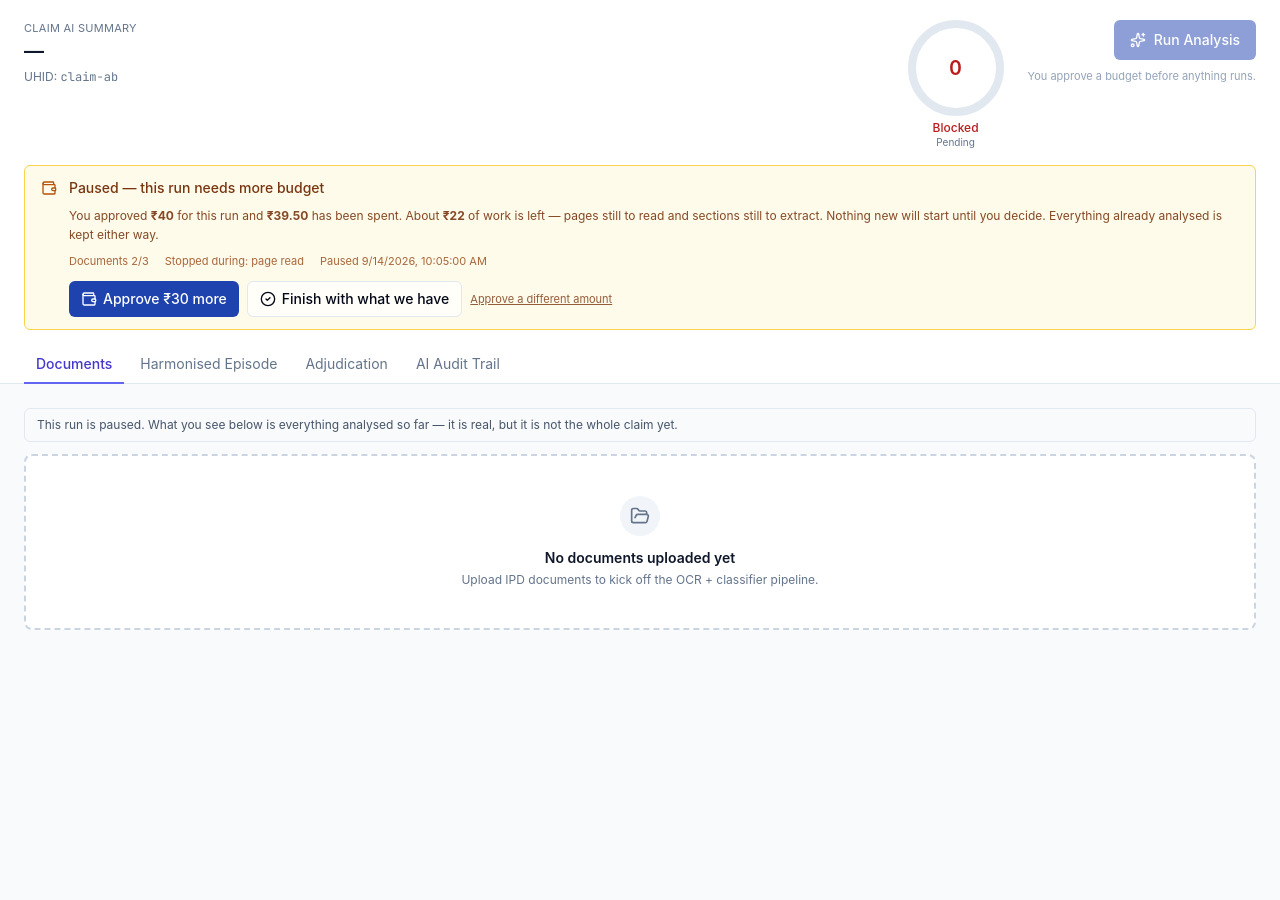
Test: mid-run cost consent — the server pauses and asks › approve-more resumes with a NEW TOTAL, not a delta
expect the text "Paused — this run needs more budget" is shown: met, box [69, 178, 324, 196]
Step 1. Click the button "Approve ₹30 more" → [154, 299], box [69, 281, 239, 317]
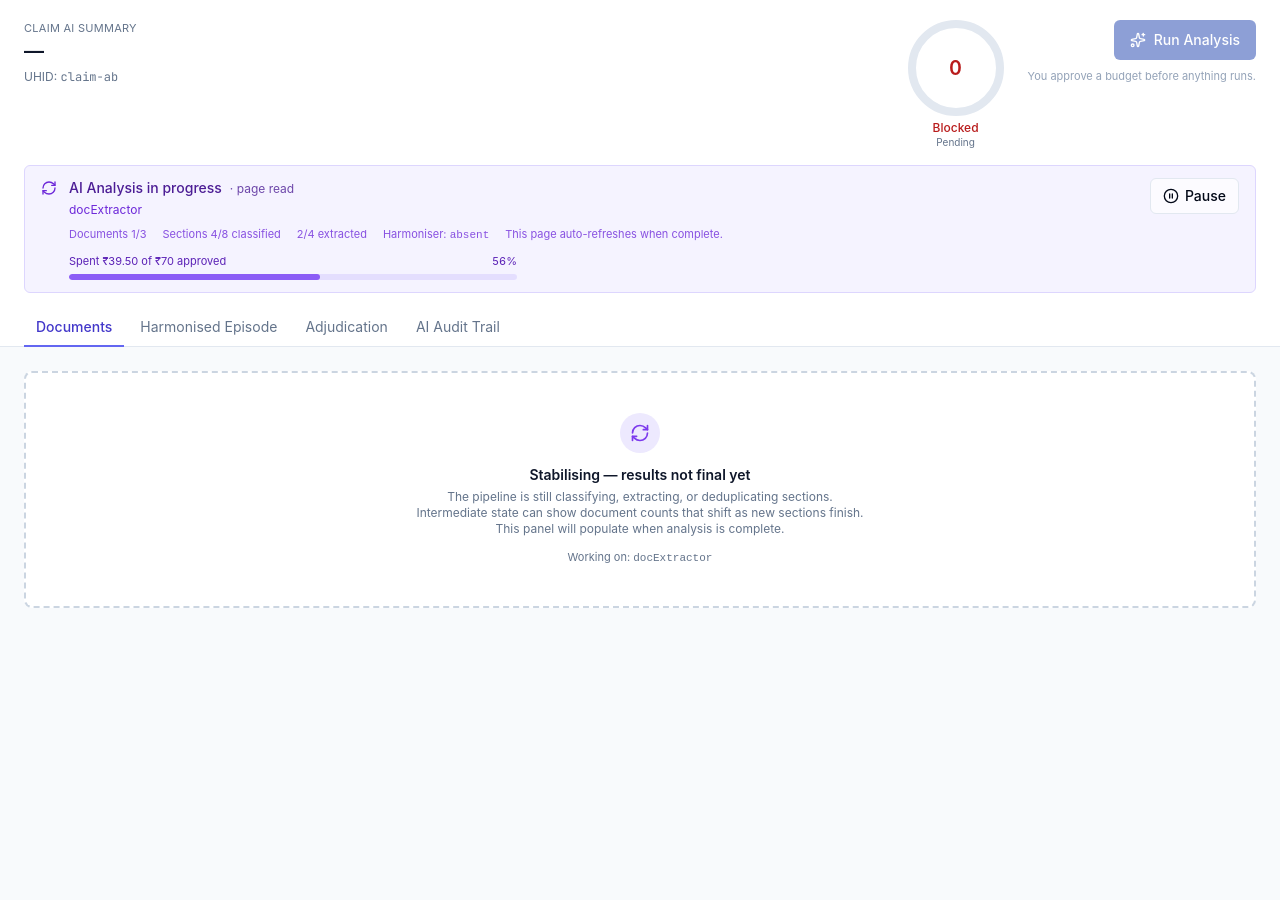
expect the text "AI Analysis in progress· page read" is shown: met, box [69, 178, 294, 196]
